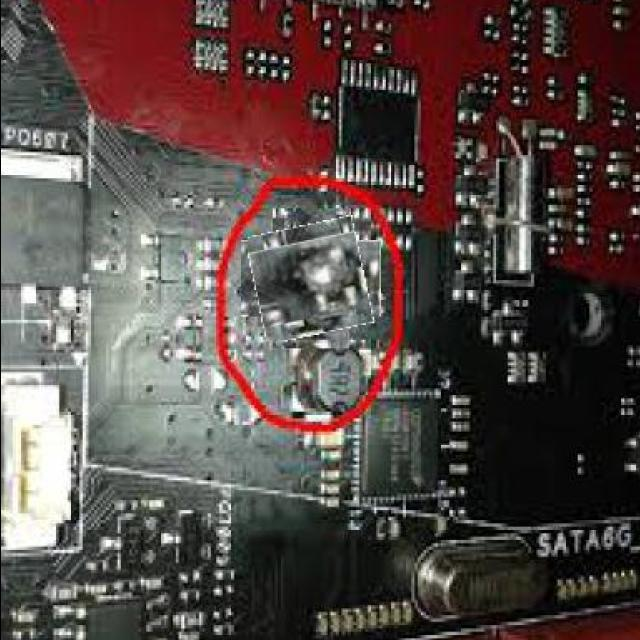Burn: (250, 220, 368, 338)
